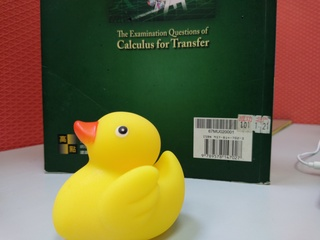duck: (43, 107, 194, 240)
